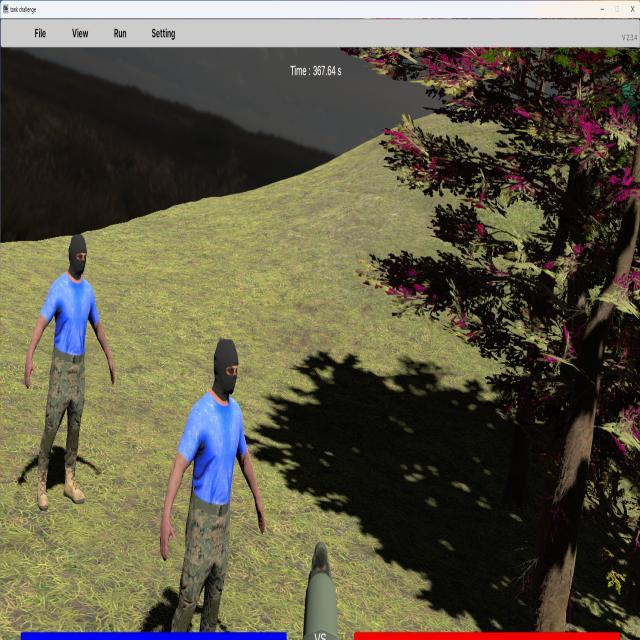Human: (161, 336, 267, 640), (24, 232, 116, 512)
